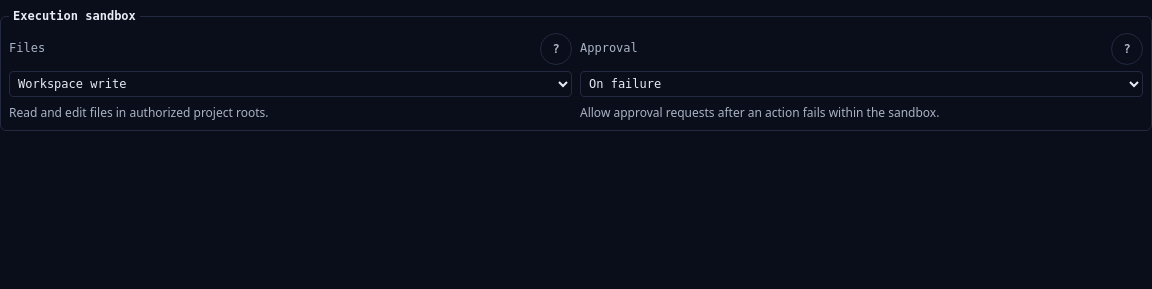
it: SandboxPolicyControls › keeps routine explanations in help rather than repeating selected values
This screenshot has width=1152, height=289.
Click the button named "About sandbox file access".
click(556, 49)  # box [540,33,572,65]
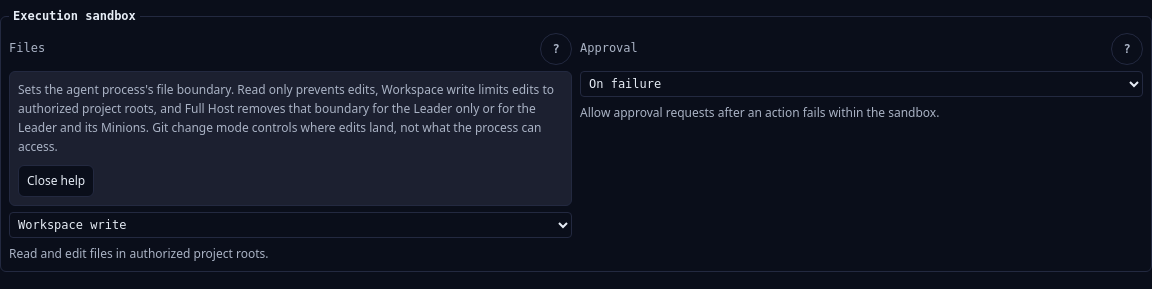
Expected: the text "Git change mode" is shown, [18,81,554,155]
